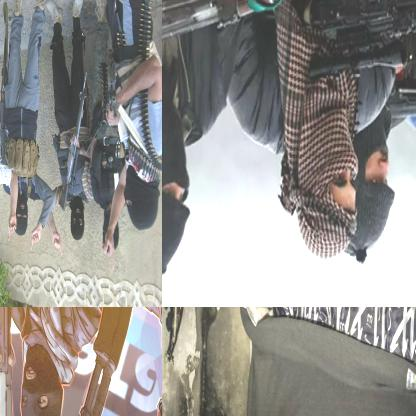rifle: (49, 307, 159, 415), (162, 0, 340, 47), (57, 71, 90, 213), (382, 9, 415, 126), (0, 0, 15, 139)
